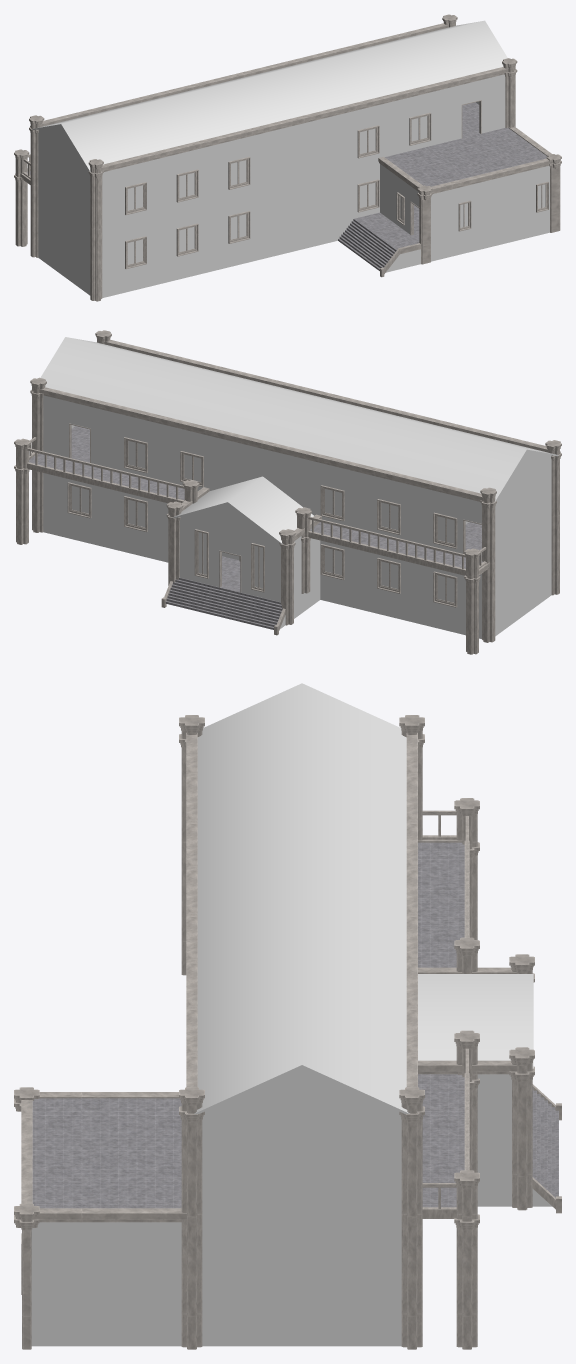
The model's file is Structure_I.fbx.
3 views of the same model, one above another, from view 1: azimuth 30°, elevation 25°; view 2: azimuth 150°, elevation 25°; view 3: azimuth 270°, elevation 25° (orthographic). The views are drawn at different scales.
Visible parts, largest first — view 1: Structure_I; view 2: Structure_I; view 3: Structure_I.
Part boxes in pixels (x1,y1,x2,y2): Structure_I: (14,14,561,301); Structure_I: (14,330,561,654); Structure_I: (14,683,561,1349).
Size of the model in its own units: 49.4 by 29.87 by 17.53.
